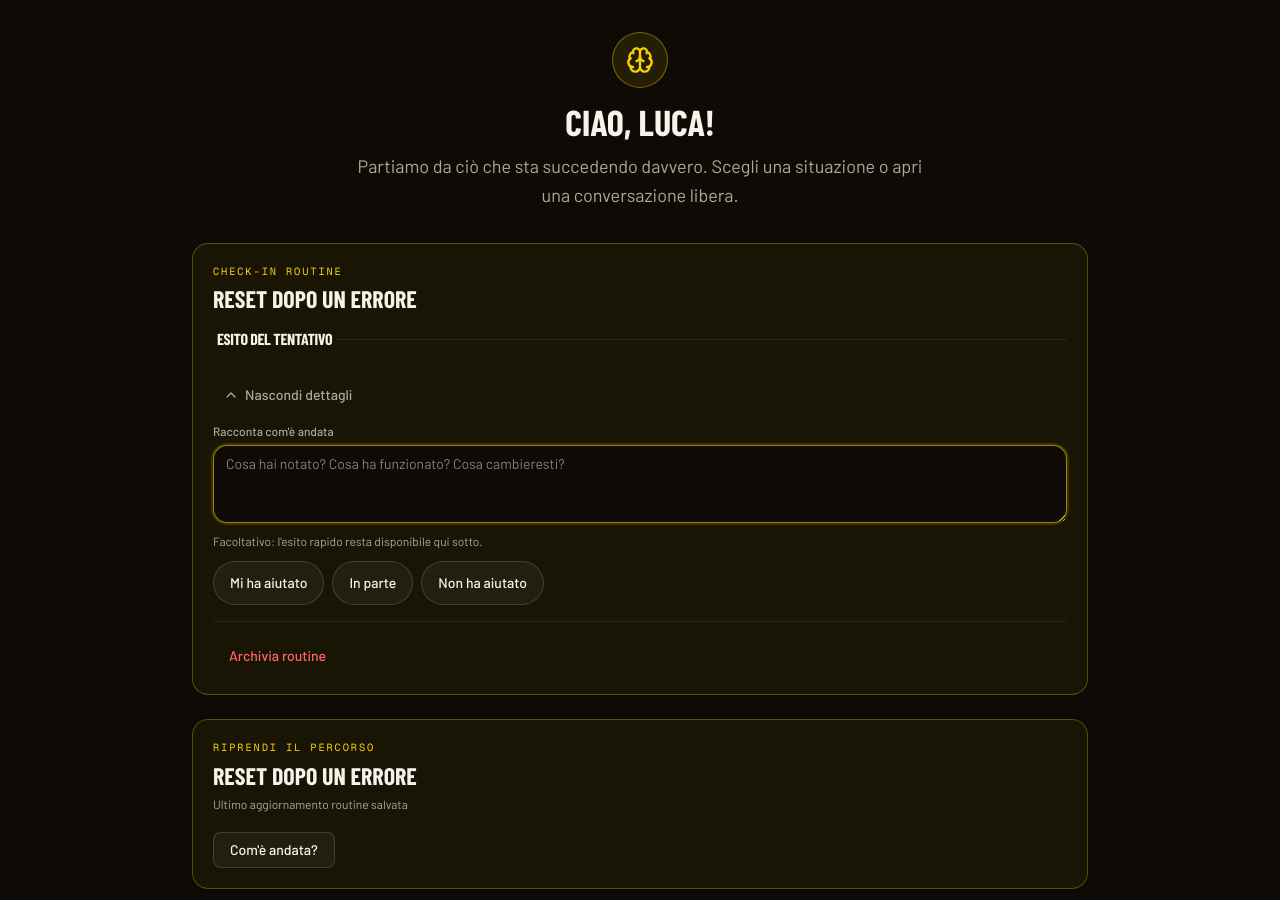
Test: chat landing page › keeps an orphan routine open when archive confirmation is cancelled
The image size is (1280, 900).
expect the element "Esito del tentativo" is shown: met, box [213, 327, 1067, 605]
Step 1. Click the button "Archivia routine" → [278, 656], box [213, 638, 342, 674]
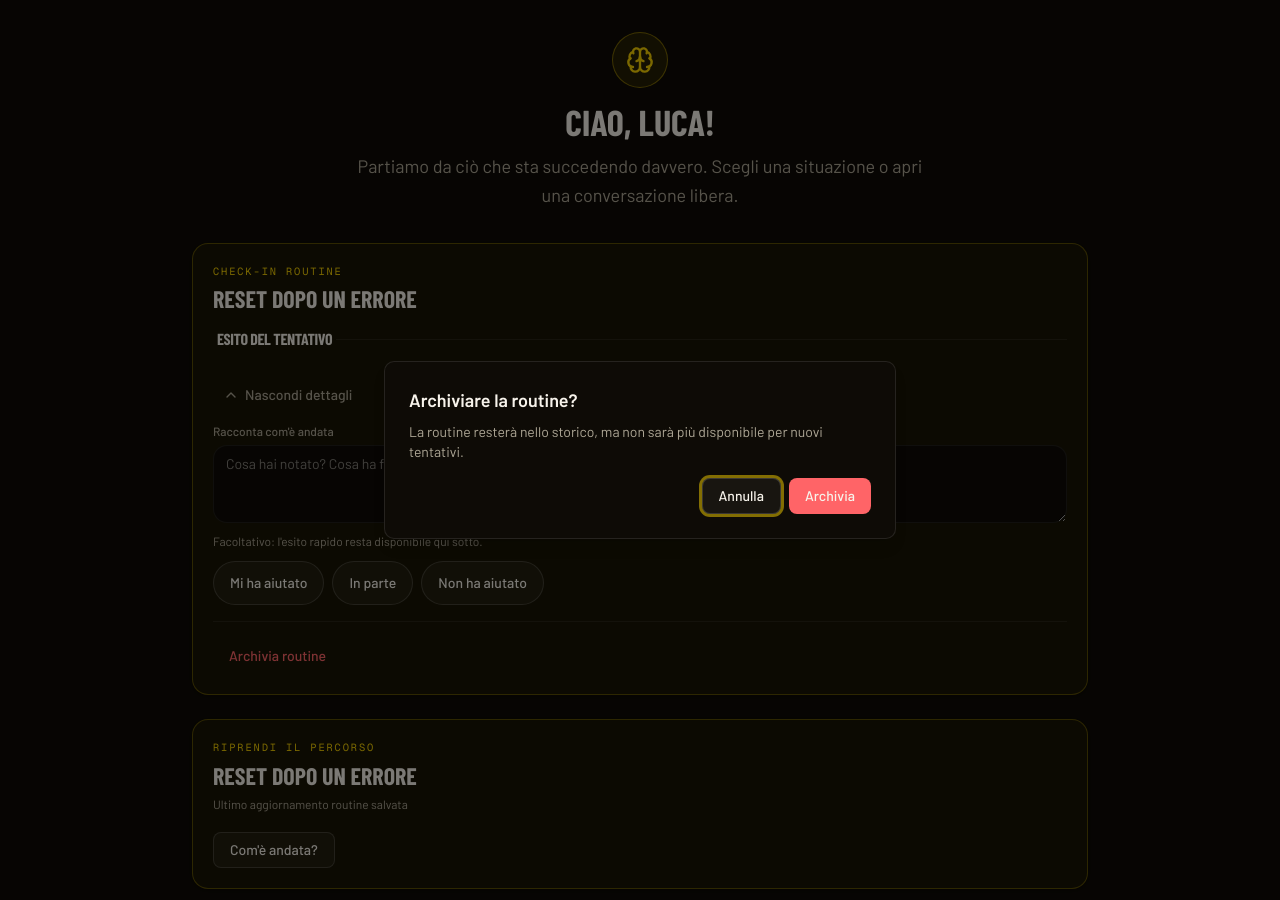
Step 2. Click the button "Annulla" → [741, 496], box [702, 478, 781, 514]
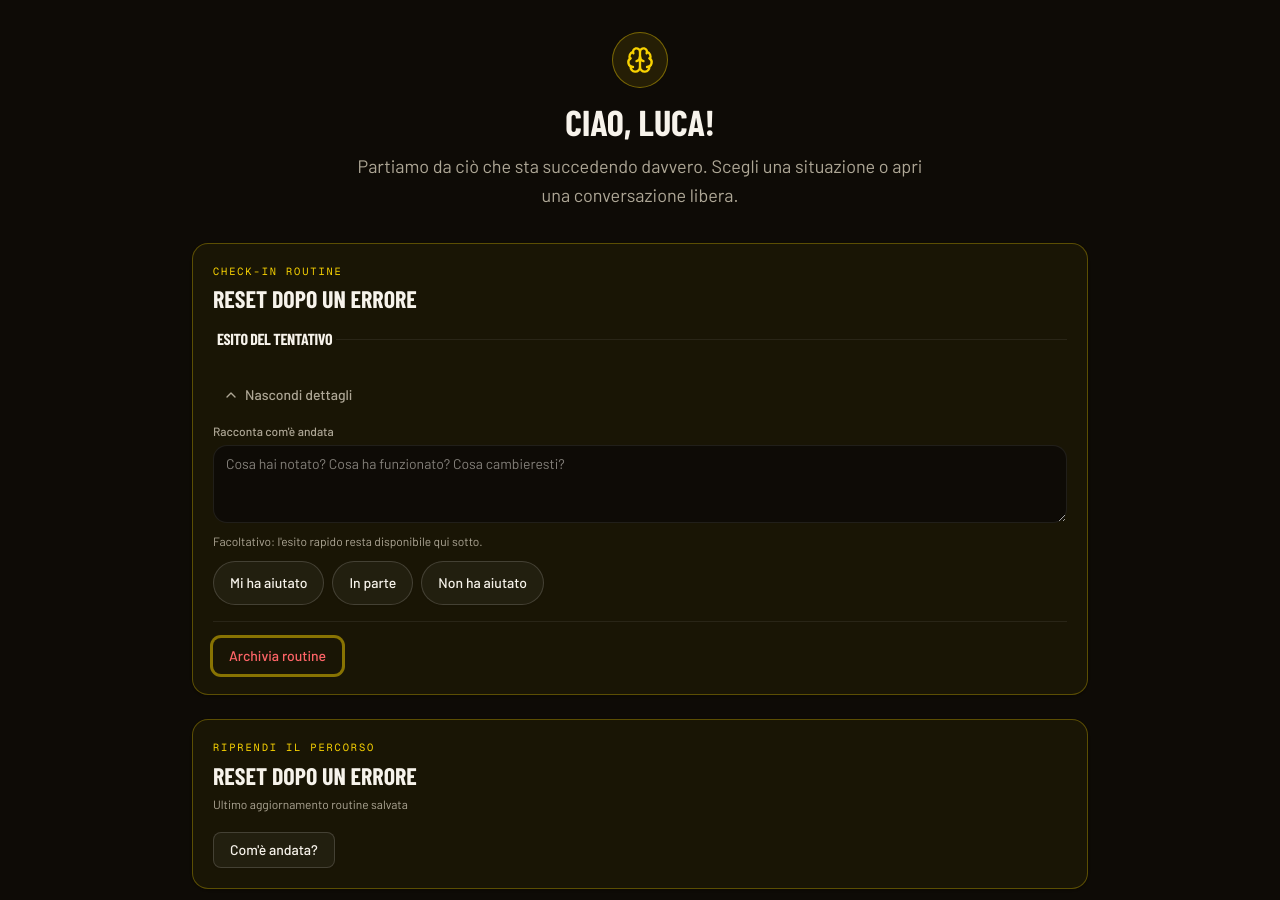
expect the element "Esito del tentativo" is shown: met, box [213, 327, 1067, 605]
expect the heading "Archiviare la routine?" is gone: met
